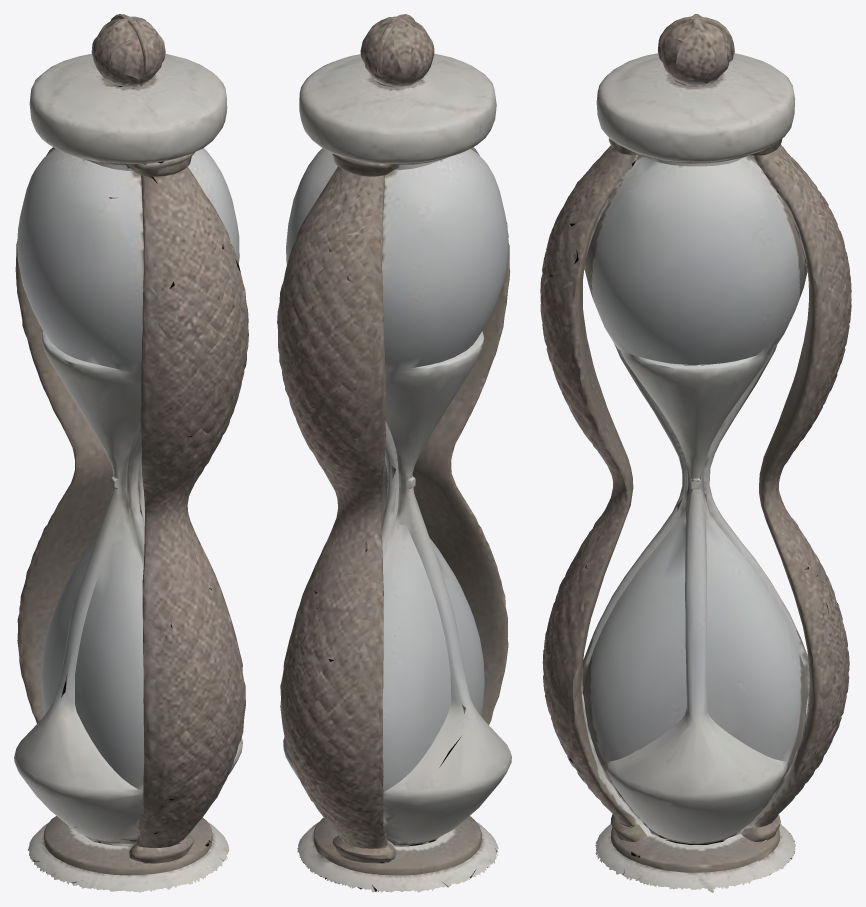
Rendered from SE-09_hourglass_game.glb.
The picture shows the model from 3 angles, left to right: view 1: azimuth 30°, elevation 25°; view 2: azimuth 150°, elevation 25°; view 3: azimuth 270°, elevation 25°; orthographic projection.
Parts seen in each view (by area): view 1: SE-09_hourglass; view 2: SE-09_hourglass; view 3: SE-09_hourglass.
Part boxes in pixels (x1,y1,x2,y2): SE-09_hourglass: (14, 14, 248, 892); SE-09_hourglass: (277, 14, 511, 892); SE-09_hourglass: (540, 14, 851, 892).
Size of the model in its own units: 0.0729 by 0.2833 by 0.096.
Materials: 1 (1 with a texture image).
